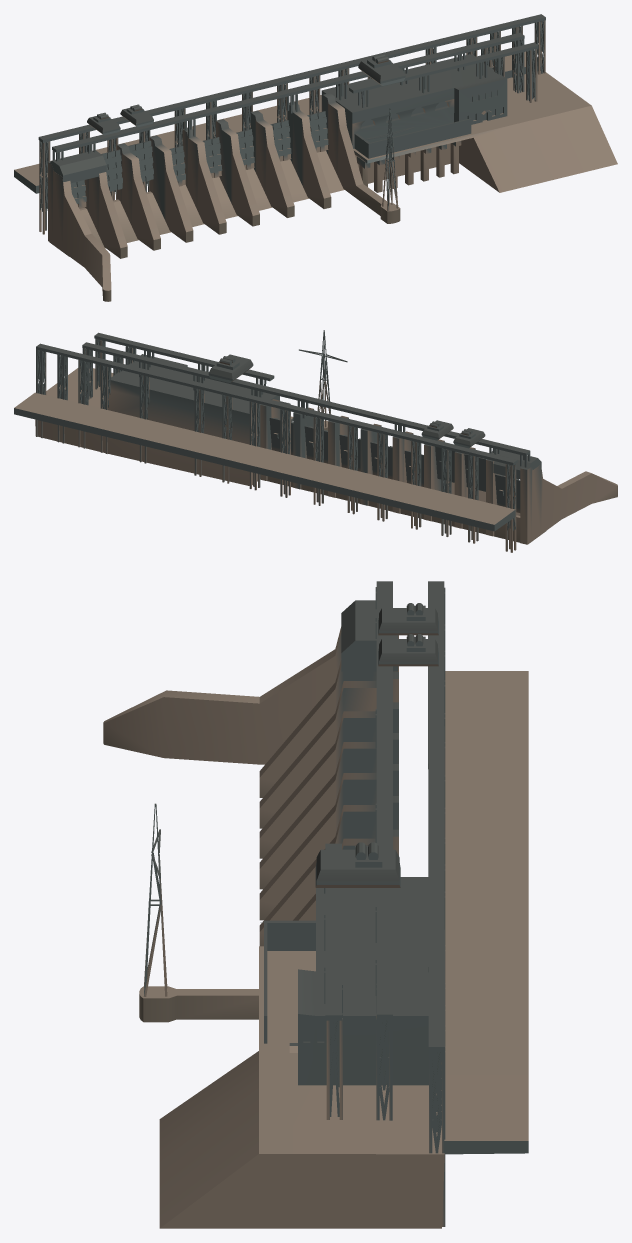
The picture shows the model from 3 angles, top to bottom: view 1: azimuth 30°, elevation 25°; view 2: azimuth 150°, elevation 25°; view 3: azimuth 270°, elevation 25°; orthographic projection. The views are drawn at different scales.
Visible parts, largest first — view 1: polySurface12:PIV; view 2: polySurface12:PIV; view 3: polySurface12:PIV.
Boxes of the visible parts, x1,y1,x2,y2 form: polySurface12:PIV: (14,14,617,301); polySurface12:PIV: (14,330,617,552); polySurface12:PIV: (103,581,528,1228).
Bounding box in the file's own units: 15.1 × 3.08 × 5.56.
